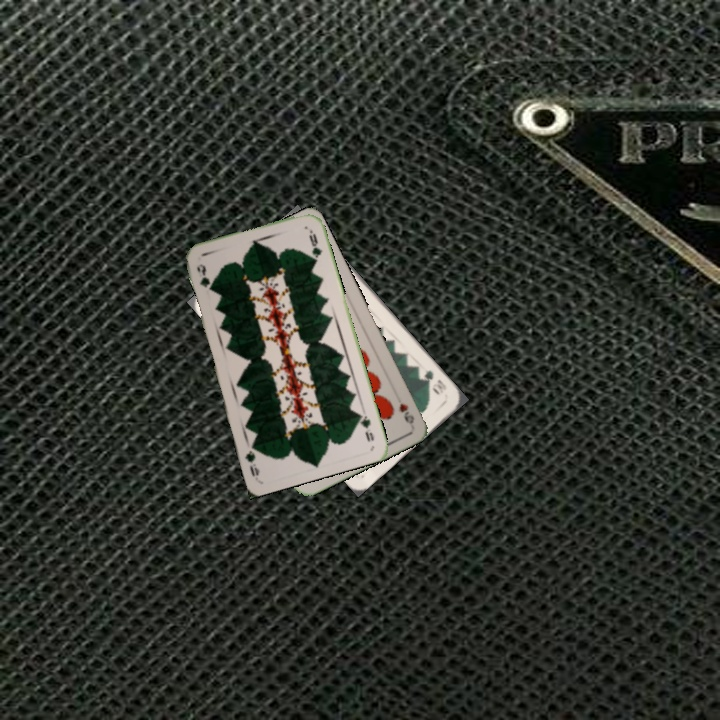G10: (420, 365, 449, 398)
G9: (354, 408, 376, 445), (193, 259, 211, 290)
H9: (394, 399, 417, 426)
